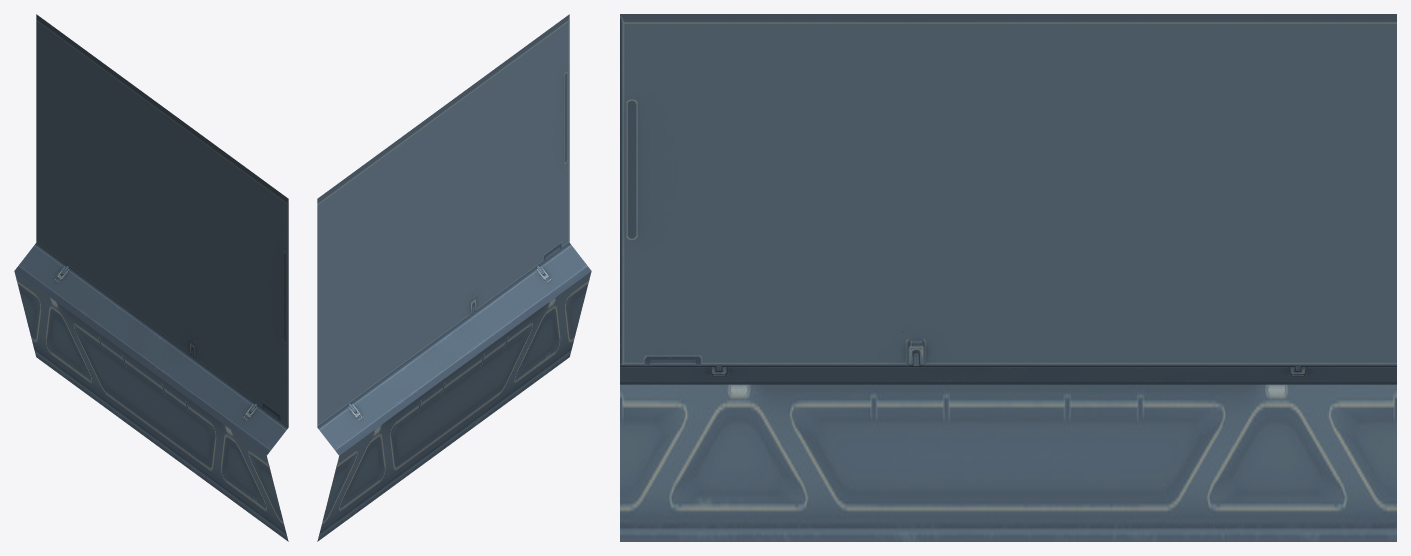
Rendered from WallBand_Straight.gltf.
The picture shows the model from 3 angles, left to right: view 1: azimuth 30°, elevation 25°; view 2: azimuth 150°, elevation 25°; view 3: azimuth 270°, elevation 25°; orthographic projection. The views are drawn at different scales.
Parts seen in each view (by area): view 1: WallBand_Straight; view 2: WallBand_Straight; view 3: WallBand_Straight.
Part boxes in pixels (bbox=[...]): WallBand_Straight: bbox=[14, 14, 288, 541]; WallBand_Straight: bbox=[317, 14, 591, 541]; WallBand_Straight: bbox=[620, 14, 1396, 541].
Size of the model in its own units: 0.2 by 3 by 4.
2 materials, 2 textured.
